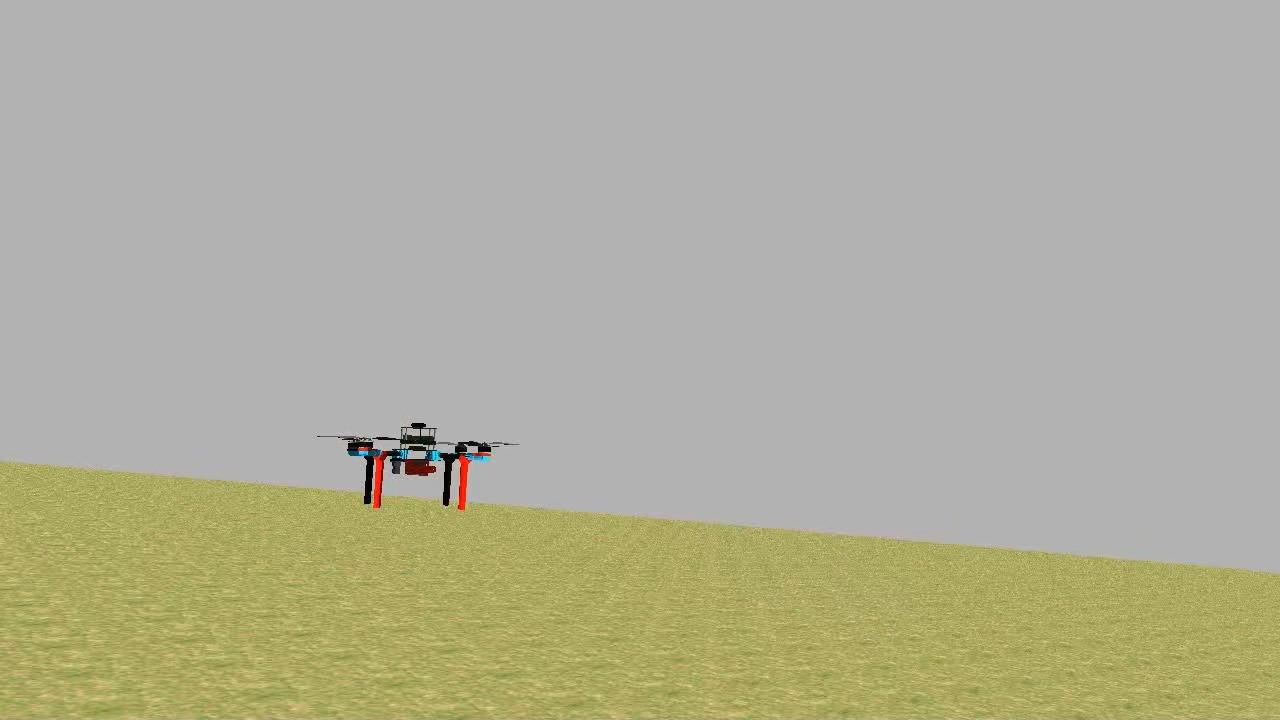UAV: (344, 420, 500, 518)
